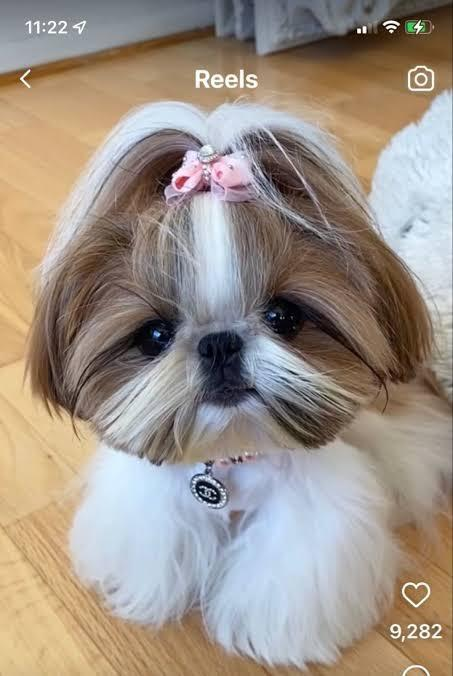adult_dog: (28, 94, 453, 669)
